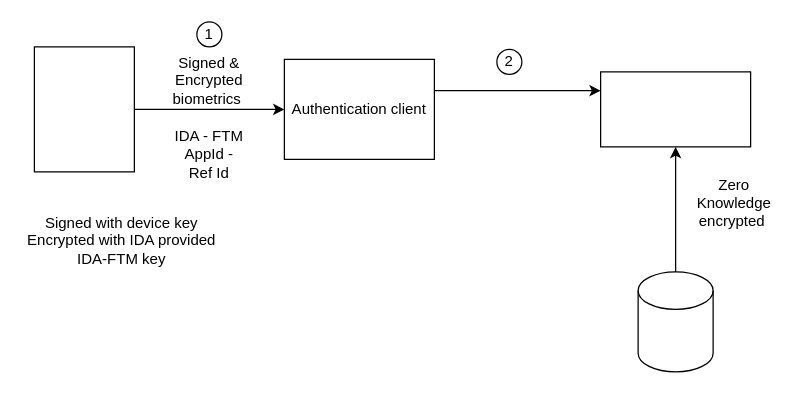
The diagram is 793 pixels wide and 394 high, and some of its shapes have lost their labels. The centre of each missing label's shape, as x and y in pixels:
Biometric Devices (L1): the point at 83,109
IDA Services: the point at 675,109
